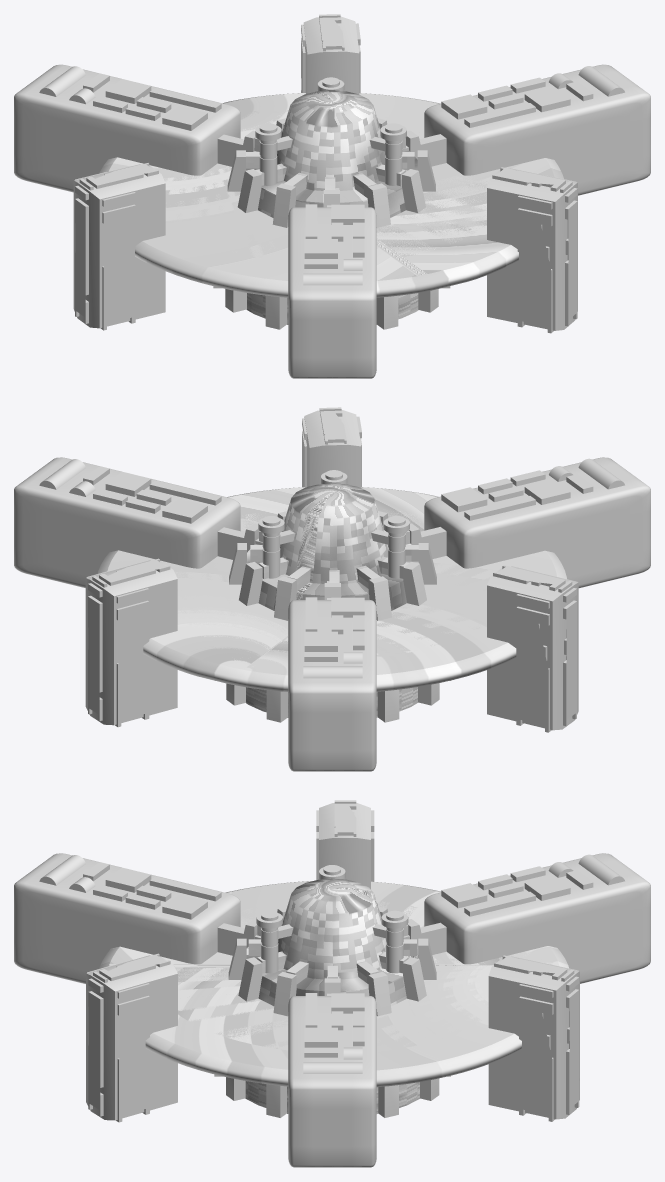
The model's file is Habitat Station R&N.dae.
3 renders of one model, top to bottom at view 1: azimuth 30°, elevation 25°; view 2: azimuth 150°, elevation 25°; view 3: azimuth 270°, elevation 25°, orthographic.
Parts seen in each view (by area): view 1: Polygon_Mesh (×17); view 2: Polygon_Mesh (×17); view 3: Polygon_Mesh (×17).
Boxes of the visible parts, box(x1,y1,x2,y2) form: Polygon_Mesh (×17): box(14, 14, 650, 378); Polygon_Mesh (×17): box(14, 407, 650, 771); Polygon_Mesh (×17): box(14, 800, 650, 1167).
Size of the model in its own units: 653 by 212 by 662.
